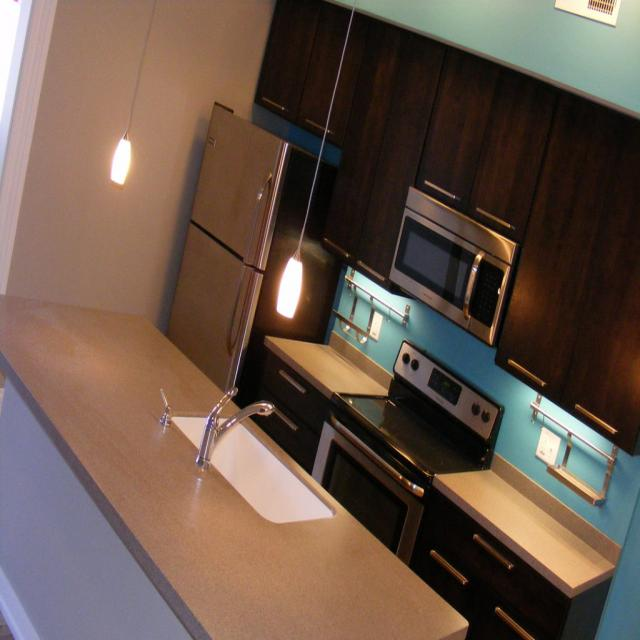desk: (330, 358, 640, 631)
